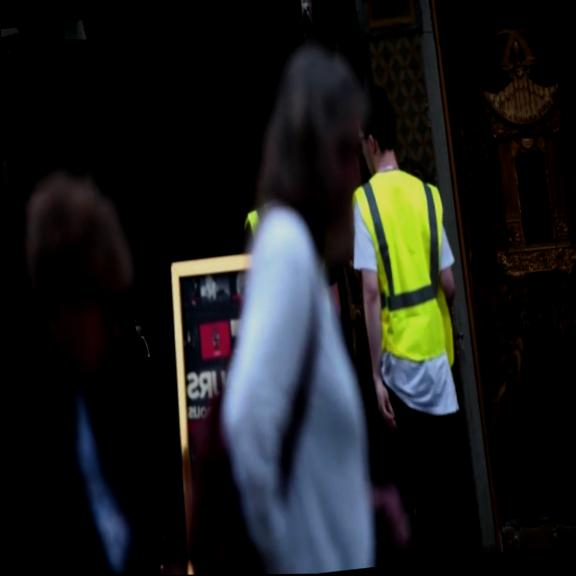safety_vest: (347, 166, 462, 372)
